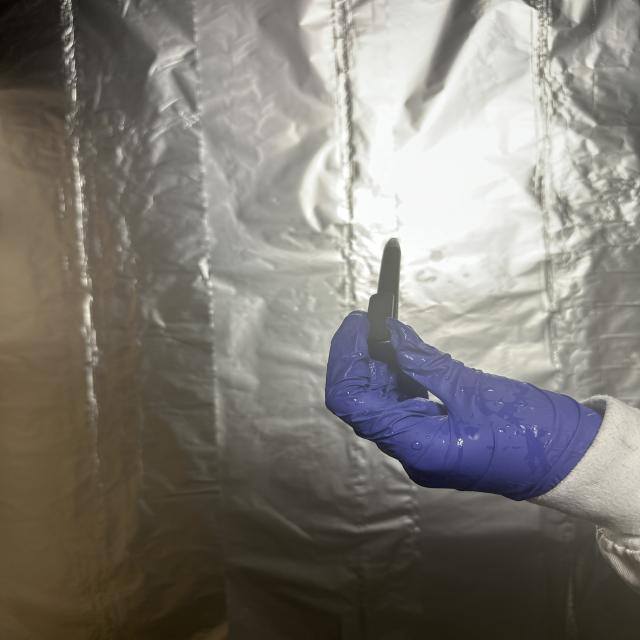gloves_contaminated: (326, 312, 603, 500)
